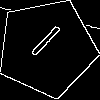I: (22, 23, 63, 66)
